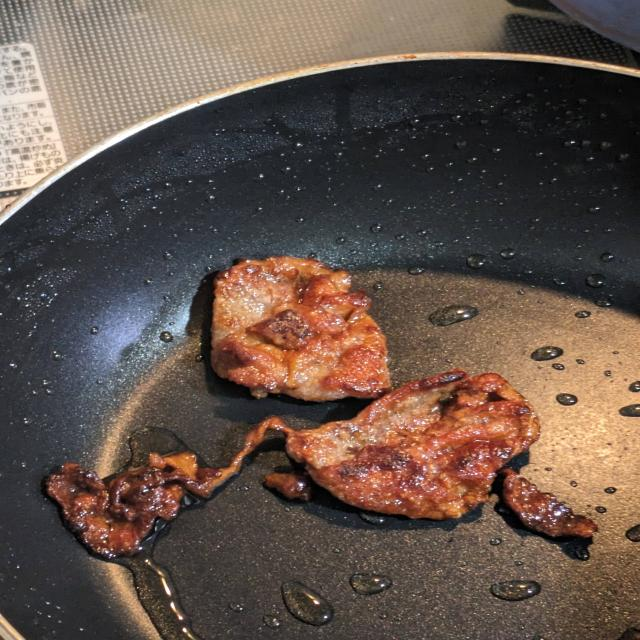overcooked pork: (27, 363, 616, 573), (194, 252, 410, 411)
